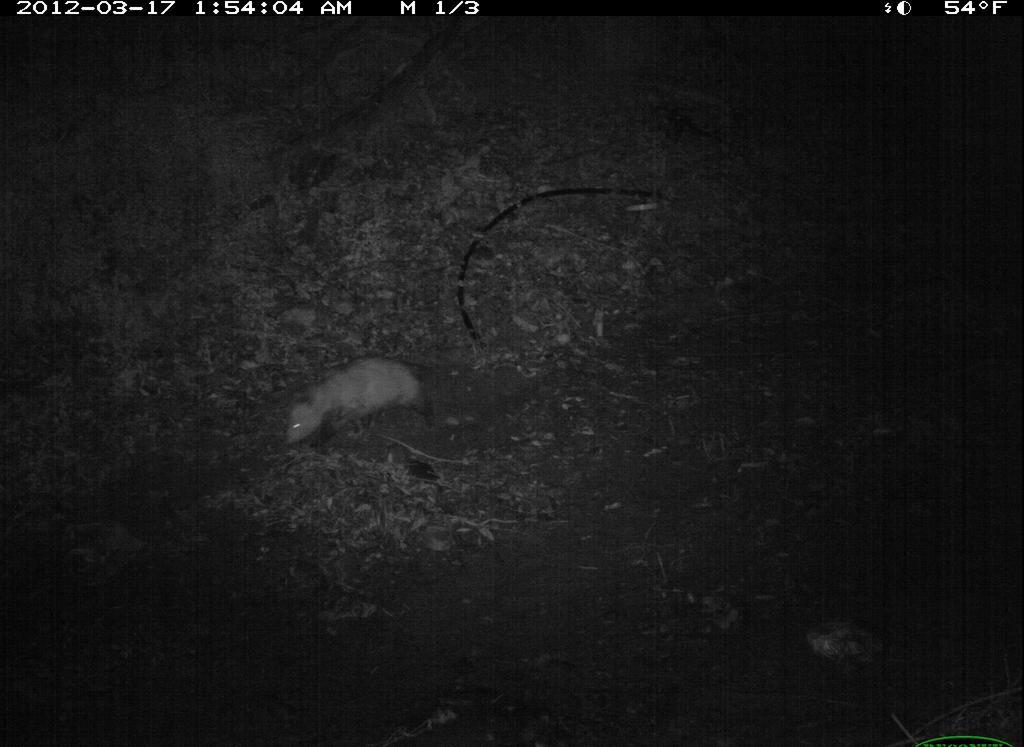opossum: (269, 337, 432, 449)
